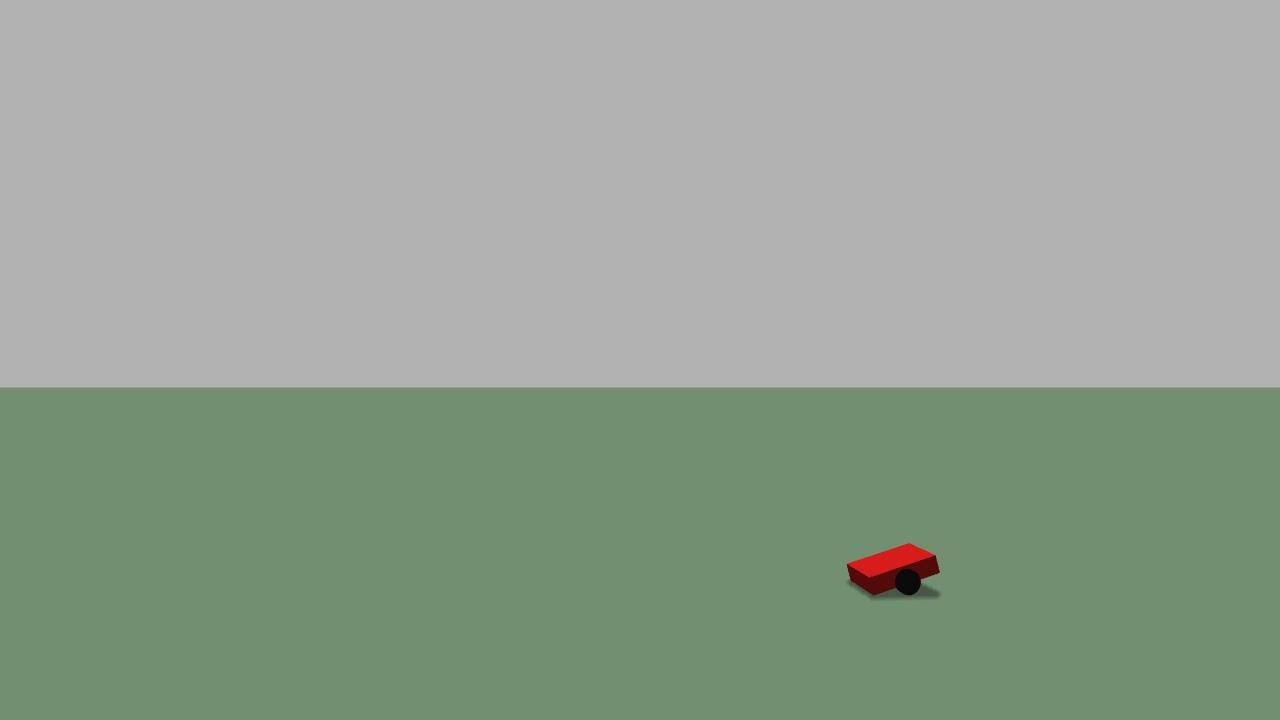ground_vehicle: (830, 537, 951, 609)
